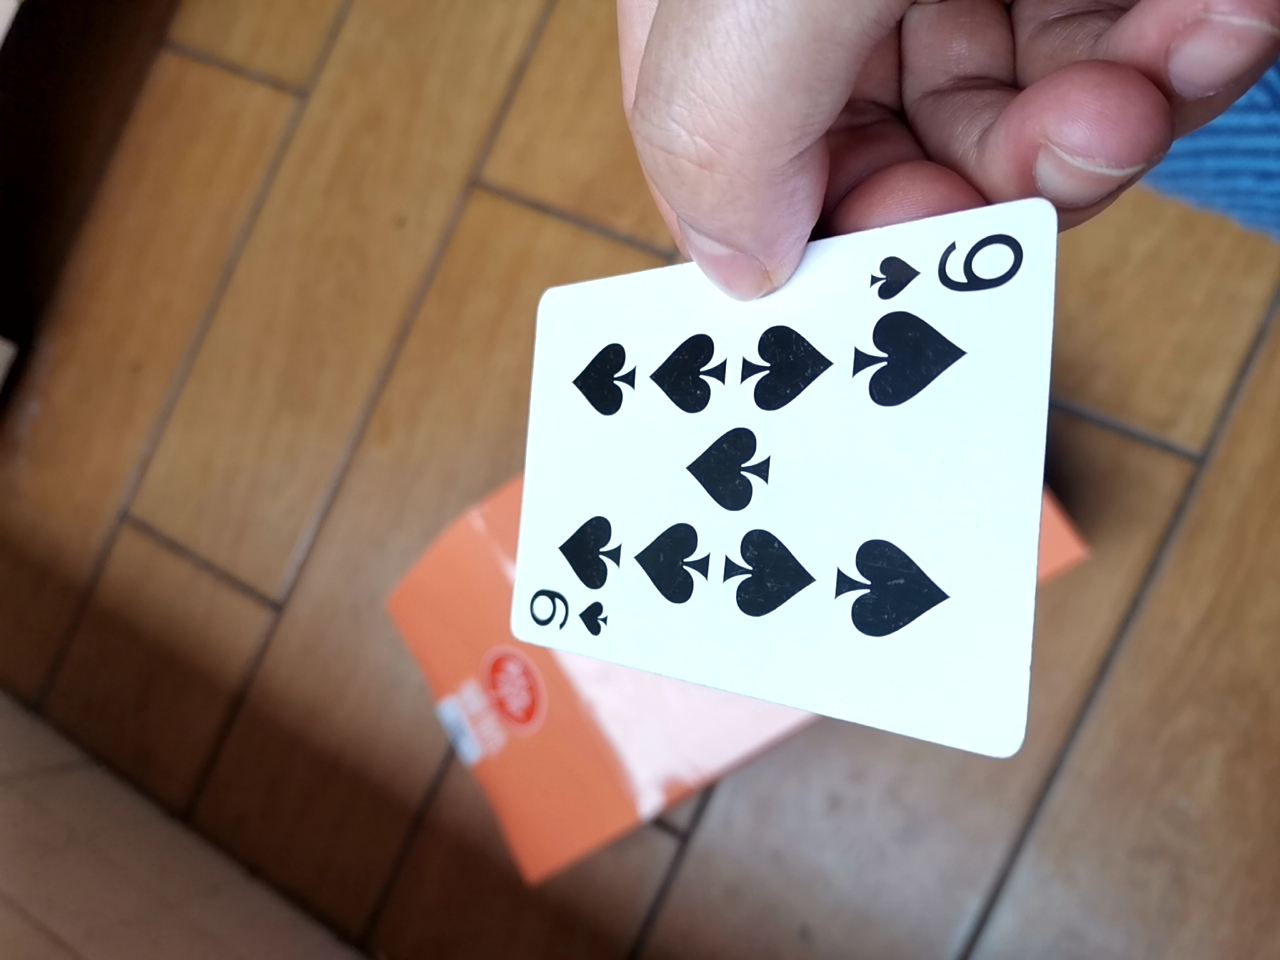ht 9: (500, 184, 1043, 774)
